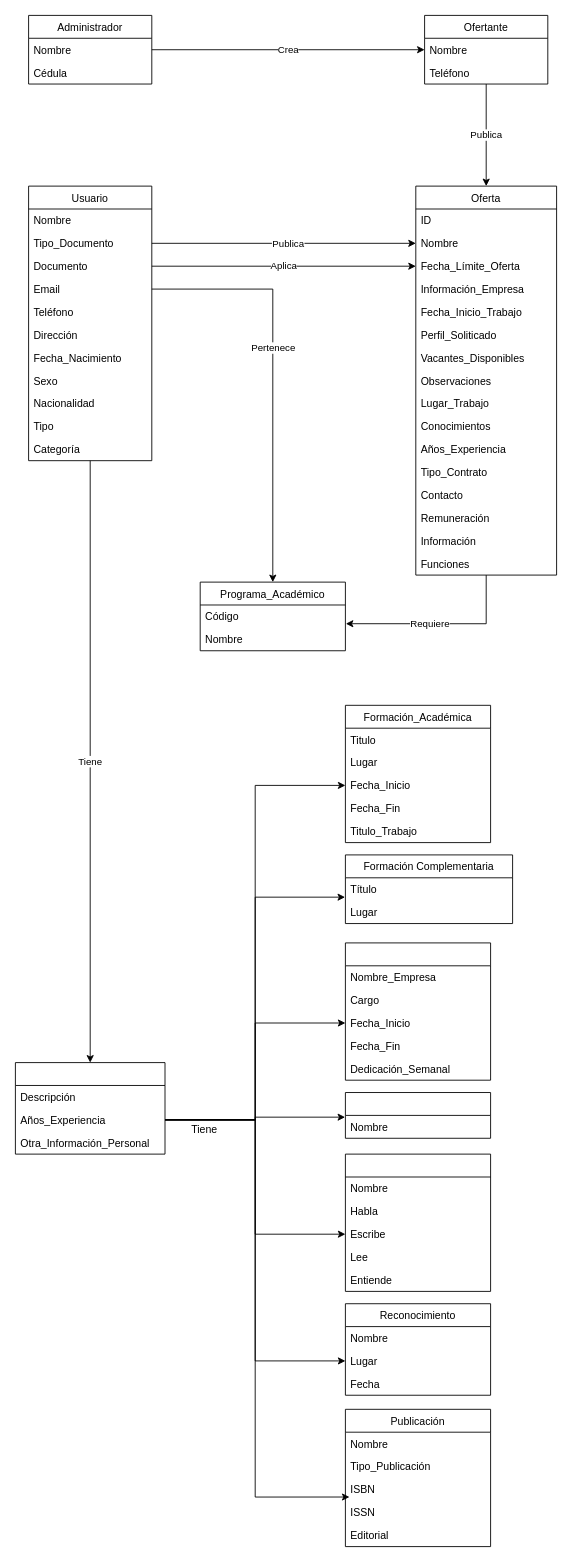
This 572x1565 diagram has some shape labels left out. Each missing label, with the box of its shape:
Experiencia_Profesional: (345, 942, 491, 1080)
Hoja_De_Vida: (15, 1062, 165, 1154)
Idioma: (345, 1153, 491, 1291)
Área_Actuación: (345, 1092, 491, 1138)
